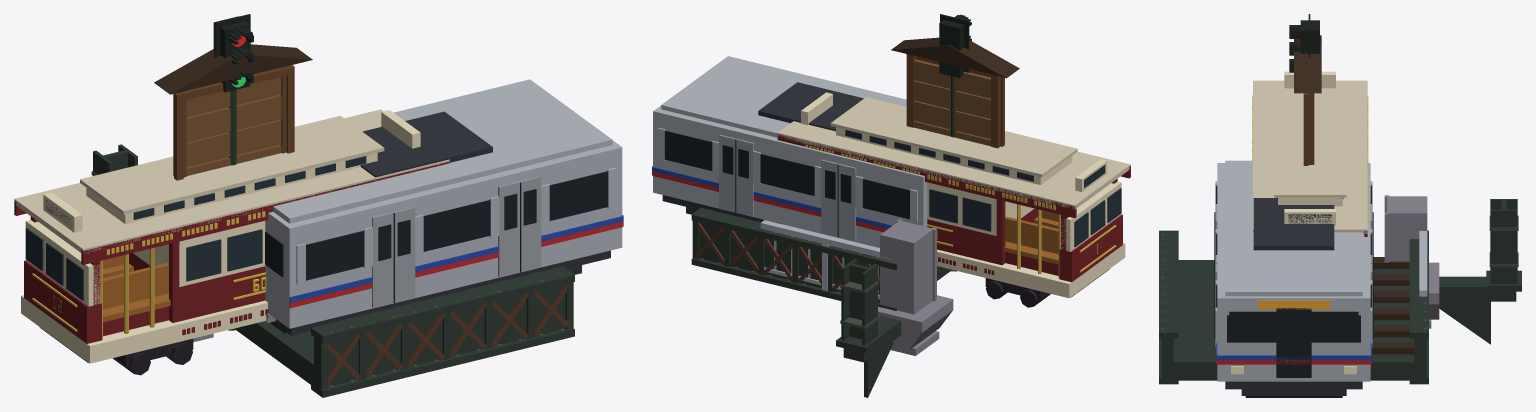
The model's file is street.glb.
3 renders of one model, left to right at view 1: azimuth 30°, elevation 25°; view 2: azimuth 150°, elevation 25°; view 3: azimuth 270°, elevation 25°, orthographic. The views are drawn at different scales.
Parts seen in each view (by area): view 1: ElCar, CableCar, ElSpan, WantedBoard, TrafficSignal, ElColumn; view 2: CableCar, ElCar, WantedBoard, ElSpan, OverpassPillar, ElColumn, OverpassCap, ElColumnCap, OverpassRail, TrafficSignal; view 3: ElCar, CableCar, ElSpan, ElCarFront, ElColumnCap, ElColumn, OverpassPillar, WantedBoard, TrafficSignal, OverpassCap, OverpassRail.
Part boxes in pixels (box(x1,y1,x2,y2)): ElCar: box(265, 79, 623, 335); CableCar: box(14, 109, 449, 375); ElSpan: box(236, 266, 574, 397); WantedBoard: box(154, 44, 312, 180); TrafficSignal: box(213, 14, 253, 330); ElColumn: box(91, 144, 137, 175); CableCar: box(777, 92, 1130, 307); ElCar: box(652, 56, 927, 247); WantedBoard: box(891, 37, 1019, 148); ElSpan: box(691, 208, 950, 310); OverpassPillar: box(880, 219, 936, 314); ElColumn: box(840, 259, 878, 345); OverpassCap: box(878, 295, 953, 355); ElColumnCap: box(836, 316, 901, 397); OverpassRail: box(760, 220, 896, 299); TrafficSignal: box(939, 14, 971, 271); ElCar: box(1214, 160, 1373, 397); CableCar: box(1252, 71, 1368, 236); ElSpan: box(1159, 230, 1428, 384); ElCarFront: box(1217, 300, 1370, 374); ElColumnCap: box(1439, 270, 1521, 344); ElColumn: box(1489, 199, 1518, 283); OverpassPillar: box(1384, 195, 1427, 269); WantedBoard: box(1294, 35, 1321, 165); TrafficSignal: box(1289, 14, 1319, 72); OverpassCap: box(1429, 262, 1439, 328); OverpassRail: box(1419, 231, 1427, 296).
Size of the model in its own units: 6.17 by 4.41 by 4.49.
